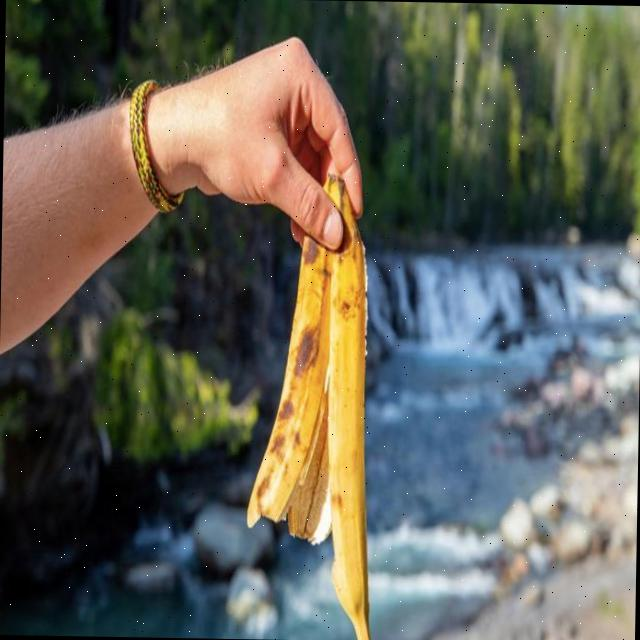banana-peel: (242, 170, 380, 640)
